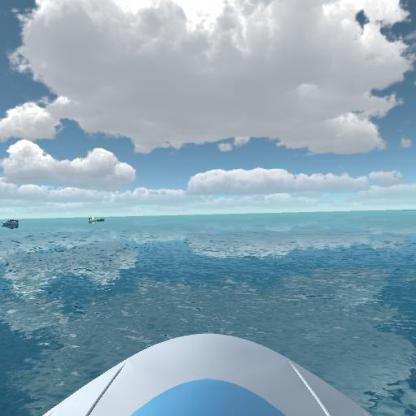usv0: (86, 212, 108, 226)
usv1: (0, 216, 21, 232)
